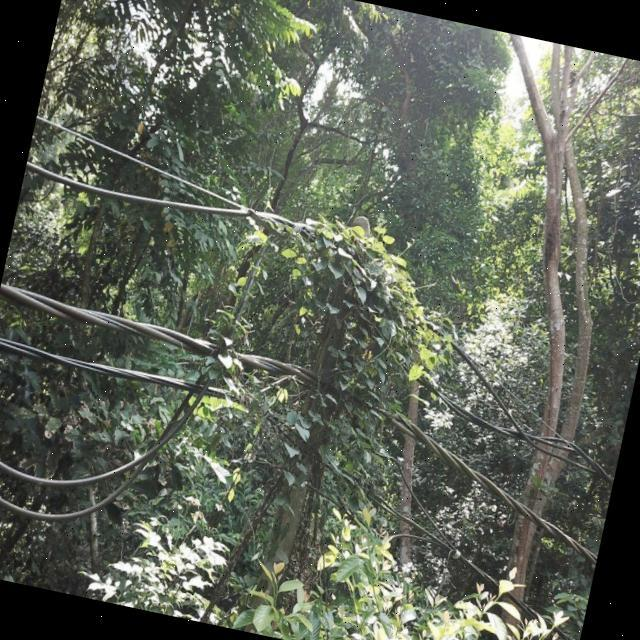critical vegetation: (196, 183, 474, 534)
